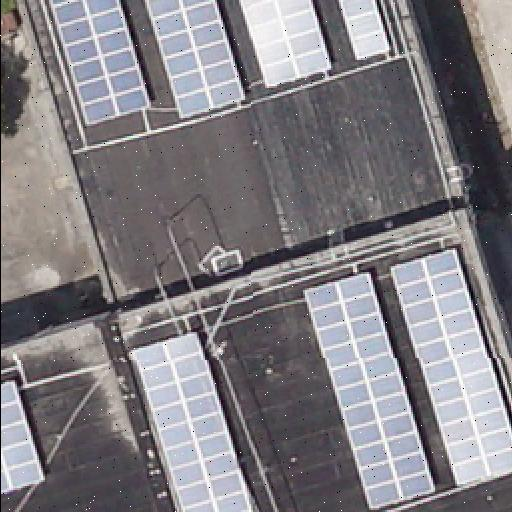solar-panel: (304, 272, 436, 512), (388, 246, 512, 490), (133, 332, 251, 512), (49, 1, 151, 127), (139, 0, 245, 120), (238, 0, 334, 92), (0, 378, 44, 494), (337, 1, 391, 63)
